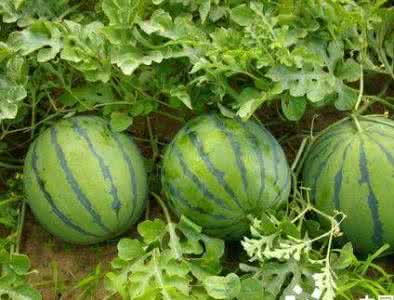watermelon: (19, 112, 148, 239), (164, 110, 291, 232), (310, 107, 394, 258)
